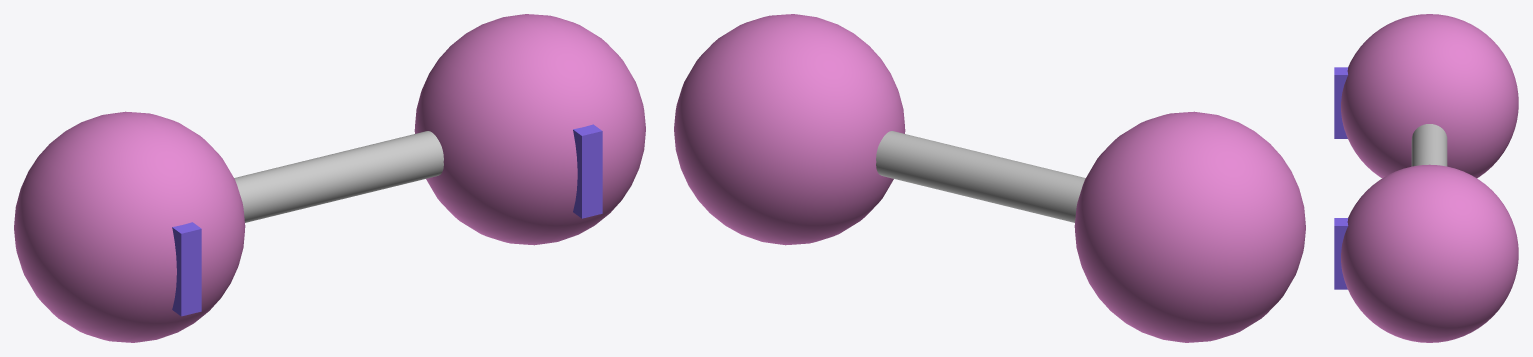
File: asset.glb
3 renders of one model, left to right at view 1: azimuth 30°, elevation 25°; view 2: azimuth 150°, elevation 25°; view 3: azimuth 270°, elevation 25°, orthographic. The views are drawn at different scales.
Parts seen in each view (by area): view 1: 3DGeom-4, 3DGeom-5, 3DGeom-3; view 2: 3DGeom-4, 3DGeom-5; view 3: 3DGeom-4, 3DGeom-3, 3DGeom-5.
Boxes of the visible parts, x1=… form: 3DGeom-4: x1=14, y1=14, x2=645, y2=342; 3DGeom-5: x1=234, y1=131, x2=443, y2=222; 3DGeom-3: x1=172, y1=124, x2=602, y2=316; 3DGeom-4: x1=674, y1=14, x2=1305, y2=342; 3DGeom-5: x1=876, y1=131, x2=1085, y2=222; 3DGeom-4: x1=1341, y1=14, x2=1518, y2=342; 3DGeom-3: x1=1334, y1=67, x2=1348, y2=289; 3DGeom-5: x1=1411, y1=124, x2=1447, y2=166.
Bounding box in the file's own units: 0.6 × 0.2 × 0.207.
